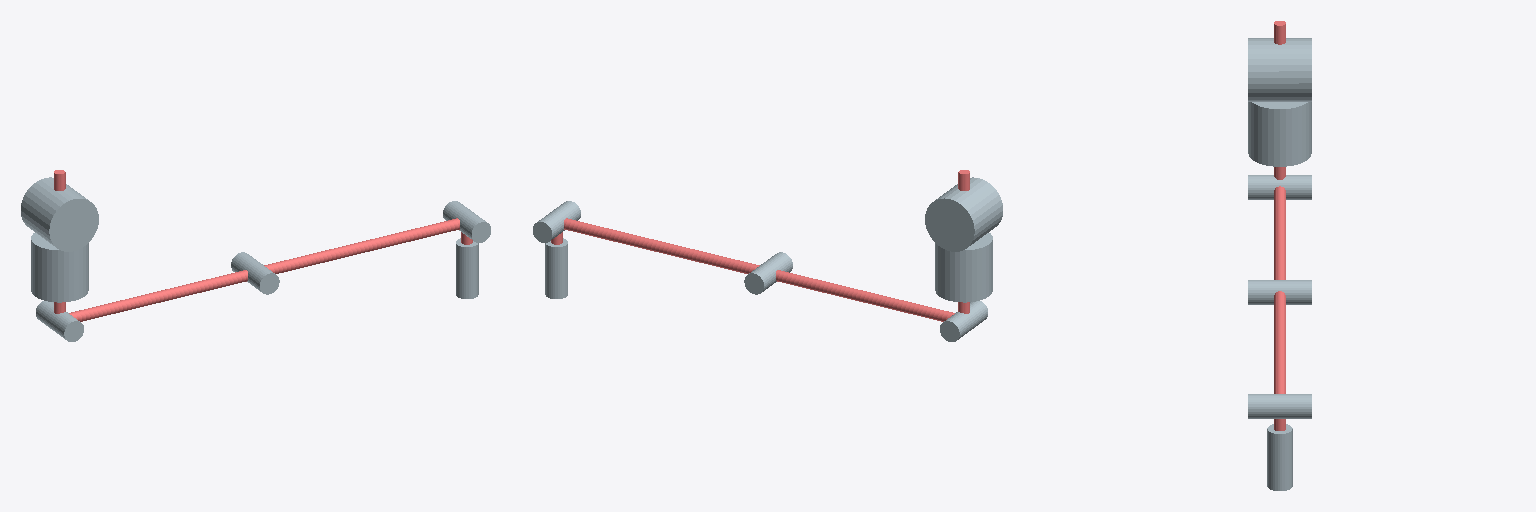
The robot description file, URDF, robot "GenericDH":
<robot name='GenericDH'>
	<material name='blue'>
		<color rgba='0 0 0.8 1'/>
	</material>
	<material name='red'>
		<color rgba='0.8 0 0 1'/>
	</material>
	<link name='a0'>
		<visual>
			<origin rpy='-0.0 0.0 0.0' xyz='0.0 0.0 0.0'/>
			<geometry>
				<cylinder length='0.1' radius='0.02'/>
			</geometry>
			<material name='blue'><color rgba='0.73 0.79 0.82 1'/></material>
		</visual>
	</link>
	<link name='l0'>
		<visual>
			<origin rpy='-0.0 0.0 0.0' xyz='0.0 0.0 0.045'/>
			<geometry>
				<cylinder length='0.089459' radius='0.01'/>
			</geometry>
			<material name='grey'><color rgba='0.99 0.54 0.54 1'/></material>
		</visual>
	</link>
	<joint name='move_l0_from_a0' type='continuous'>
		<parent link='a0'/>
		<child link='l0'/>
		<axis xyz='0.0 0.0 1.0'/>
		<origin rpy='0 0 0' xyz='0.0 0.0 0.0'/>
	</joint>
	<link name='a1'>
		<visual>
			<origin rpy='1.571 0.0 0.0' xyz='0.0 0.0 0.089'/>
			<geometry>
				<cylinder length='0.1' radius='0.02'/>
			</geometry>
			<material name='blue'><color rgba='0.73 0.79 0.82 1'/></material>
		</visual>
	</link>
	<joint name='fix_a1_to_l0' type='fixed'>
		<parent link='l0'/>
		<child link='a1'/>
		<origin rpy='0 0 0' xyz='0 0 0'/>
	</joint>
	<link name='l1'>
		<visual>
			<origin rpy='-0.0 -1.571 0.0' xyz='-0.212 -0.0 0.0'/>
			<geometry>
				<cylinder length='0.425' radius='0.01'/>
			</geometry>
			<material name='grey'><color rgba='0.99 0.54 0.54 1'/></material>
		</visual>
	</link>
	<joint name='move_l1_from_a1' type='continuous'>
		<parent link='a1'/>
		<child link='l1'/>
		<axis xyz='0.0 -1.0 0.0'/>
		<origin rpy='0 0 0' xyz='0.0 0.0 0.089459'/>
	</joint>
	<link name='a2'>
		<visual>
			<origin rpy='1.571 0.0 0.0' xyz='-0.425 -0.0 0.0'/>
			<geometry>
				<cylinder length='0.1' radius='0.02'/>
			</geometry>
			<material name='blue'><color rgba='0.73 0.79 0.82 1'/></material>
		</visual>
	</link>
	<joint name='fix_a2_to_l1' type='fixed'>
		<parent link='l1'/>
		<child link='a2'/>
		<origin rpy='0 0 0' xyz='0 0 0'/>
	</joint>
	<link name='l2'>
		<visual>
			<origin rpy='-0.0 -1.571 0.0' xyz='-0.196 -0.0 0.0'/>
			<geometry>
				<cylinder length='0.39225' radius='0.01'/>
			</geometry>
			<material name='grey'><color rgba='0.99 0.54 0.54 1'/></material>
		</visual>
	</link>
	<joint name='move_l2_from_a2' type='continuous'>
		<parent link='a2'/>
		<child link='l2'/>
		<axis xyz='0.0 -1.0 0.0'/>
		<origin rpy='0 0 0' xyz='-0.425 -0.0 0.0'/>
	</joint>
	<link name='a3'>
		<visual>
			<origin rpy='1.571 0.0 0.0' xyz='-0.392 -0.0 0.0'/>
			<geometry>
				<cylinder length='0.1' radius='0.02'/>
			</geometry>
			<material name='blue'><color rgba='0.73 0.79 0.82 1'/></material>
		</visual>
	</link>
	<joint name='fix_a3_to_l2' type='fixed'>
		<parent link='l2'/>
		<child link='a3'/>
		<origin rpy='0 0 0' xyz='0 0 0'/>
	</joint>
	<link name='l3'>
		<visual>
			<origin rpy='-0.0 0.0 0.0' xyz='0.0 0.0 0.055'/>
			<geometry>
				<cylinder length='0.10915' radius='0.01'/>
			</geometry>
			<material name='grey'><color rgba='0.99 0.54 0.54 1'/></material>
		</visual>
	</link>
	<joint name='move_l3_from_a3' type='continuous'>
		<parent link='a3'/>
		<child link='l3'/>
		<axis xyz='0.0 -1.0 0.0'/>
		<origin rpy='0 0 0' xyz='-0.39225 -0.0 0.0'/>
	</joint>
	<link name='a4'>
		<visual>
			<origin rpy='3.142 0.0 0.0' xyz='0.0 0.0 0.109'/>
			<geometry>
				<cylinder length='0.1' radius='0.05'/>
			</geometry>
			<material name='blue'><color rgba='0.73 0.79 0.82 1'/></material>
		</visual>
	</link>
	<joint name='fix_a4_to_l3' type='fixed'>
		<parent link='l3'/>
		<child link='a4'/>
		<origin rpy='0 0 0' xyz='0 0 0'/>
	</joint>
	<link name='l4'>
		<visual>
			<origin rpy='-0.0 0.0 0.0' xyz='0.0 0.0 0.047'/>
			<geometry>
				<cylinder length='0.09465' radius='0.01'/>
			</geometry>
			<material name='grey'><color rgba='0.99 0.54 0.54 1'/></material>
		</visual>
	</link>
	<joint name='move_l4_from_a4' type='continuous'>
		<parent link='a4'/>
		<child link='l4'/>
		<axis xyz='0.0 -1.2246467991473532e-16 -1.0'/>
		<origin rpy='0 0 0' xyz='0.0 0.0 0.10915'/>
	</joint>
	<link name='a5'>
		<visual>
			<origin rpy='1.571 0.0 0.0' xyz='0.0 0.0 0.095'/>
			<geometry>
				<cylinder length='0.1' radius='0.05'/>
			</geometry>
			<material name='blue'><color rgba='0.73 0.79 0.82 1'/></material>
		</visual>
	</link>
	<joint name='fix_a5_to_l4' type='fixed'>
		<parent link='l4'/>
		<child link='a5'/>
		<origin rpy='0 0 0' xyz='0 0 0'/>
	</joint>
	<link name='l5'>
		<visual>
			<origin rpy='-0.0 0.0 0.0' xyz='0.0 0.0 0.041'/>
			<geometry>
				<cylinder length='0.0823' radius='0.01'/>
			</geometry>
			<material name='grey'><color rgba='0.99 0.54 0.54 1'/></material>
		</visual>
	</link>
	<joint name='move_l5_from_a5' type='continuous'>
		<parent link='a5'/>
		<child link='l5'/>
		<axis xyz='0.0 -1.0 0.0'/>
		<origin rpy='0 0 0' xyz='0.0 0.0 0.09465'/>
	</joint>
</robot>

--- What the picture shows (computed from the rendered views, not written in the file) ---
Views: 3 orthographic renders of the robot side by side, from view 1: azimuth 30°, elevation 25°; view 2: azimuth 150°, elevation 25°; view 3: azimuth 270°, elevation 25°.
Model GenericDH with 12 links and 11 joints (6 continuous, 5 fixed), rooted at a0, posed every joint at zero.
Links seen in each view (by area): view 1: a5, a4, l1, l2, a0, a2, a3, a1; view 2: a5, a4, l1, l2, a0, a2, a3, a1; view 3: a5, a4, a0, a1, a2, a3, l1, l2.
Boxes of the visible links, x1,y1,x2,y2 form: a5: (21, 177, 98, 251); a4: (31, 233, 88, 302); l1: (264, 218, 459, 273); l2: (69, 270, 247, 321); a0: (456, 238, 478, 298); a2: (231, 252, 279, 294); a3: (36, 301, 83, 341); a1: (443, 201, 490, 242); a5: (925, 177, 1002, 251); a4: (935, 233, 992, 302); l1: (564, 218, 759, 273); l2: (776, 270, 954, 321); a0: (545, 238, 567, 298); a2: (744, 252, 792, 294); a3: (940, 301, 987, 341); a1: (533, 201, 580, 242); a5: (1248, 38, 1311, 101); a4: (1248, 102, 1311, 166); a0: (1267, 424, 1292, 490); a1: (1248, 394, 1311, 418); a2: (1248, 280, 1311, 304); a3: (1248, 175, 1311, 199); l1: (1274, 291, 1285, 393); l2: (1274, 186, 1285, 279).
Bounding box of the posed robot: 0.8873 × 0.1 × 0.4254 m (x, y, z).
Geometry: primitives only (box / cylinder / sphere), no mesh files.